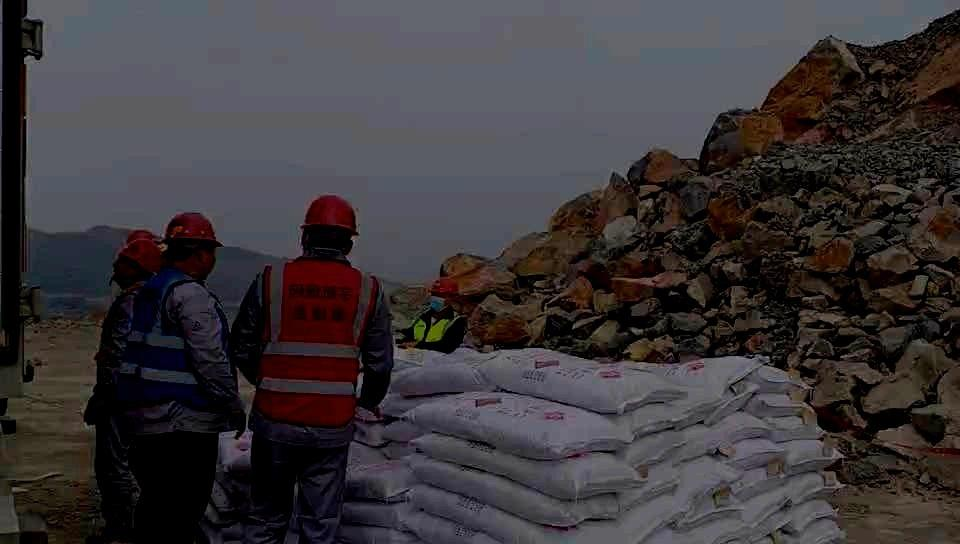helmet: (161, 211, 225, 283), (298, 192, 360, 256), (111, 237, 162, 286), (428, 276, 460, 313)
